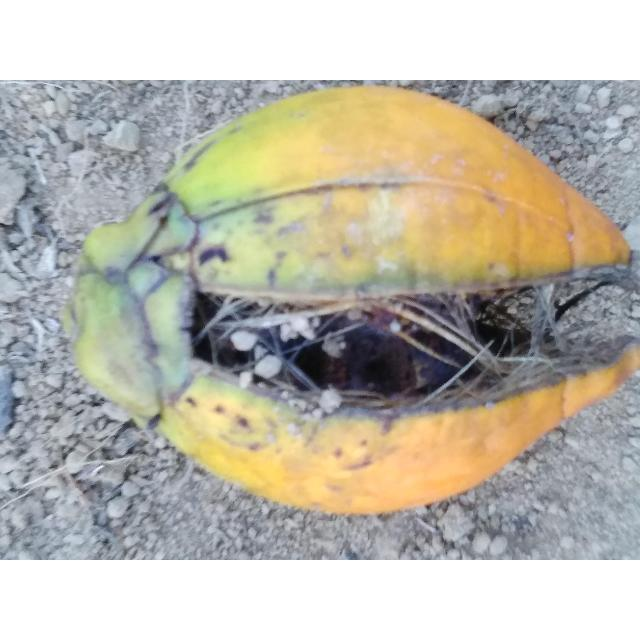damaged: (64, 87, 640, 513)
